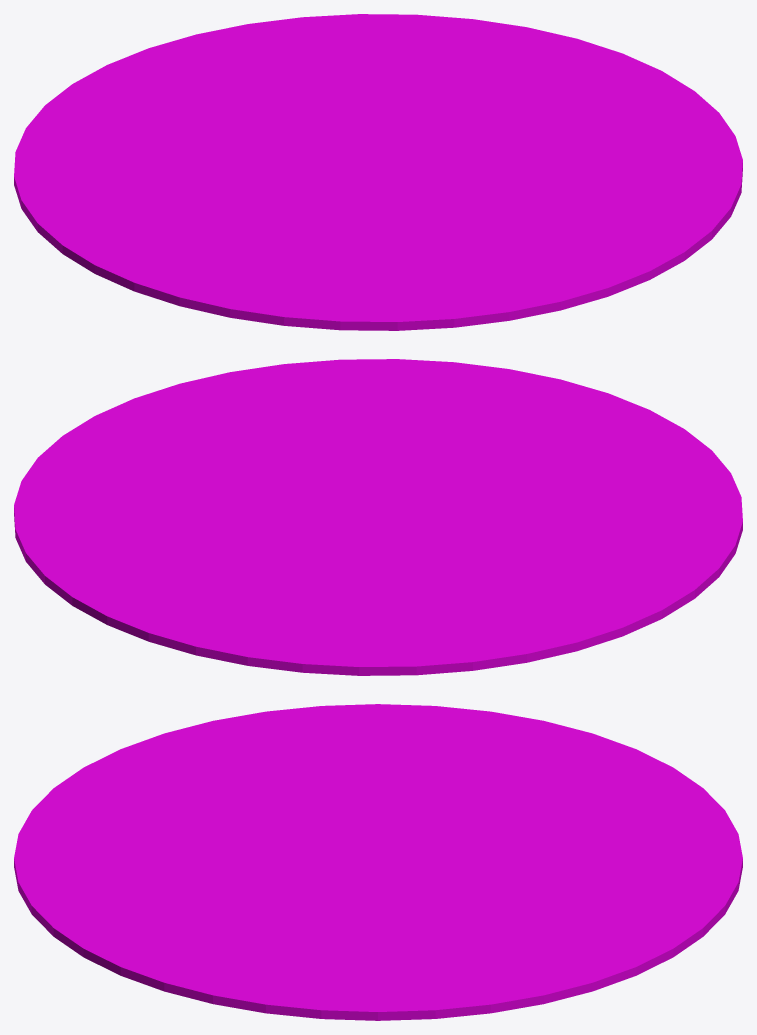
The model's file is Tower_Floor_01.fbx.
3 views of the same model, one above another, from view 1: azimuth 30°, elevation 25°; view 2: azimuth 150°, elevation 25°; view 3: azimuth 270°, elevation 25° (orthographic).
Parts seen in each view (by area): view 1: Tower_Floor_01; view 2: Tower_Floor_01; view 3: Tower_Floor_01.
Part boxes in pixels (x1,y1,x2,y2): Tower_Floor_01: (14, 14, 742, 330); Tower_Floor_01: (14, 359, 742, 675); Tower_Floor_01: (14, 704, 742, 1020).
Bounding box in the file's own units: 1534 × 20.4 × 1534.
